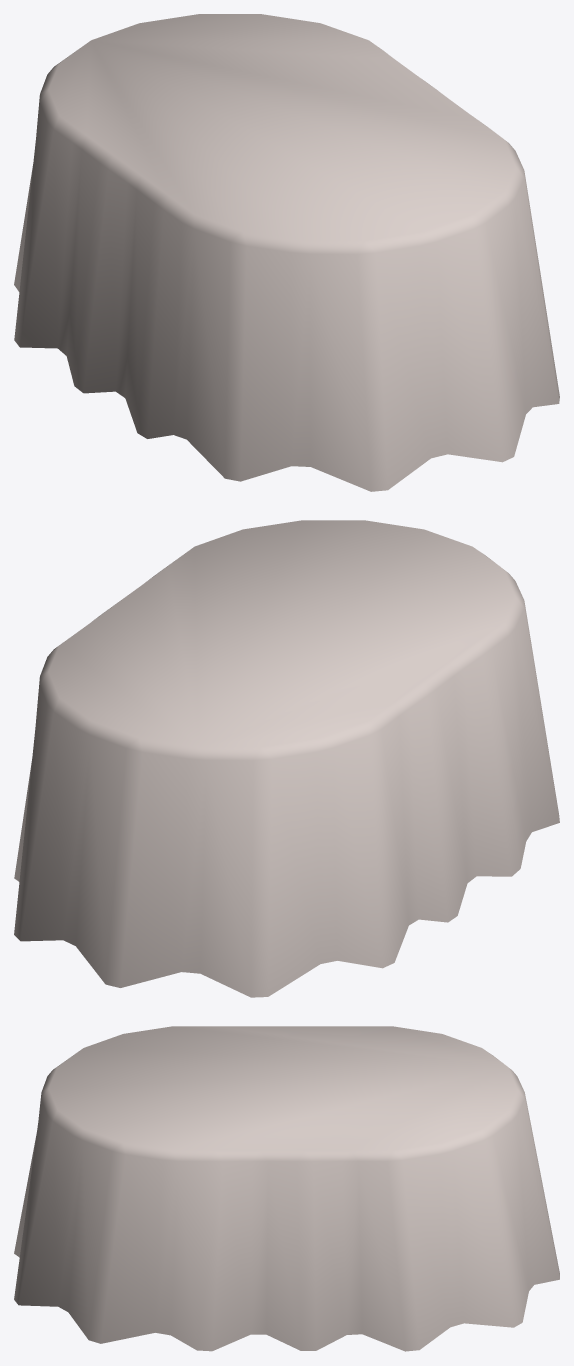
The model's file is Cake table.fbx.
The picture shows the model from 3 angles, top to bottom: view 1: azimuth 30°, elevation 25°; view 2: azimuth 150°, elevation 25°; view 3: azimuth 270°, elevation 25°; orthographic projection. The views are drawn at different scales.
Parts seen in each view (by area): view 1: Cake table; view 2: Cake table; view 3: Cake table.
Part boxes in pixels (x1,y1,x2,y2): Cake table: [14, 14, 559, 491]; Cake table: [14, 520, 559, 997]; Cake table: [14, 1026, 559, 1351].
Size of the model in its own units: 162 by 94.61 by 249.
